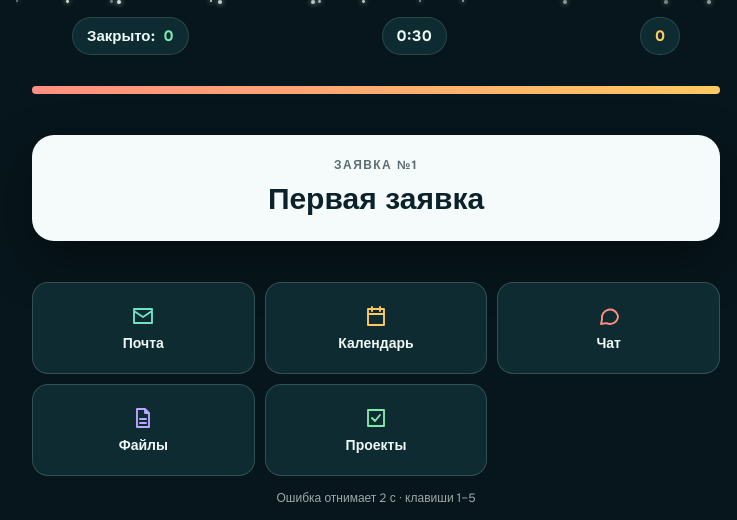
Test: RushScreen › отправляет ответ на текущую заявку и показывает следующую
Expected: the text "Первая заявка" is shown, top-left (268, 180), bottom-right (484, 218)
Click the button "Почта" at (143, 328), box top-left (32, 282), bottom-right (255, 374)
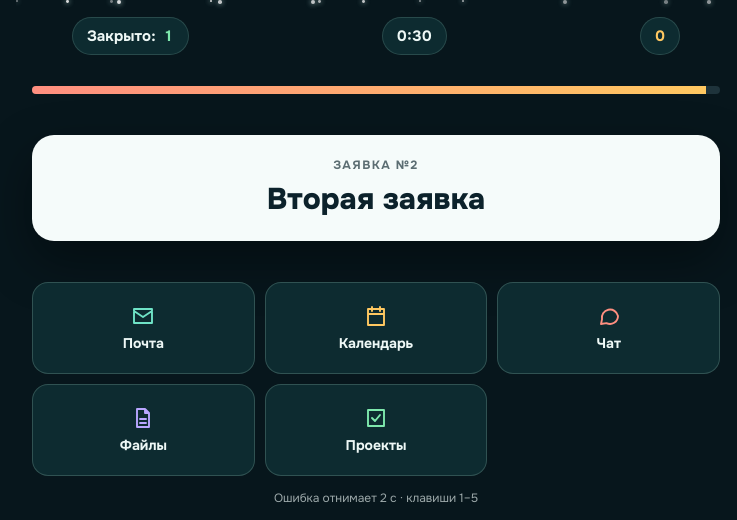
Expected: the text "Вторая заявка" is shown, top-left (267, 180), bottom-right (485, 218)
